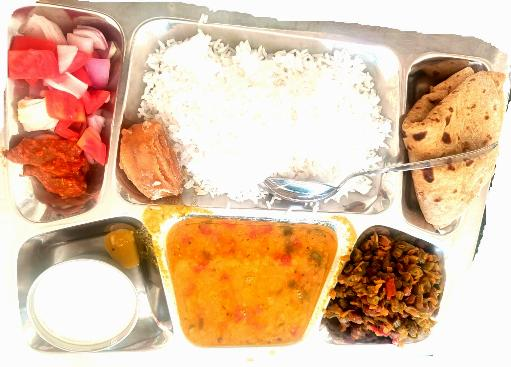Curd: (20, 255, 146, 355)
Dal: (162, 214, 326, 347)
Pickle: (2, 135, 78, 201)
Rice: (132, 21, 394, 211)
Roti: (401, 61, 511, 228)
Salad: (6, 8, 121, 119)
Sweet: (118, 126, 179, 199)
Vegetable: (341, 232, 452, 352)
